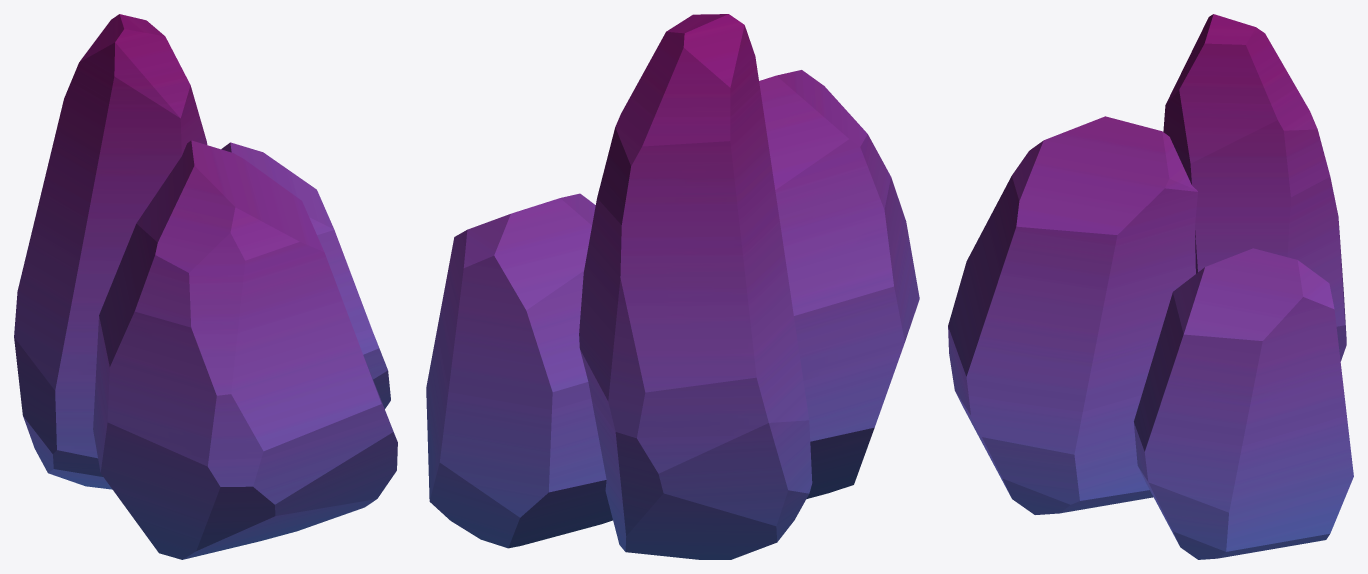
The model's file is rocatopacio_01.fbx.
3 renders of one model, left to right at view 1: azimuth 30°, elevation 25°; view 2: azimuth 150°, elevation 25°; view 3: azimuth 270°, elevation 25°, orthographic. The views are drawn at different scales.
Visible parts, largest first — view 1: cueva01.001; view 2: cueva01.001; view 3: cueva01.001.
Part boxes in pixels (x1,y1,x2,y2): cueva01.001: (14,14,397,559); cueva01.001: (426,14,919,559); cueva01.001: (948,14,1353,559).
Size of the model in its own units: 887 by 1142 by 930.
1 material, 1 textured.
